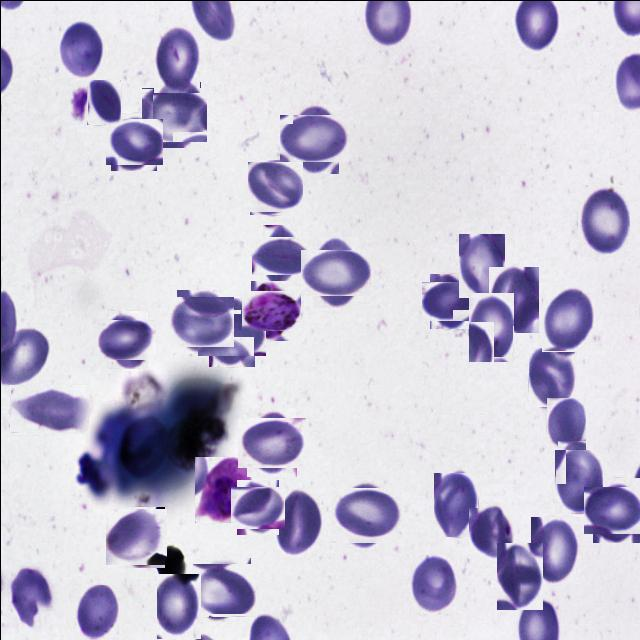difficult: (245, 285, 295, 335)
red blood cell: (9, 384, 88, 433), (335, 484, 397, 546), (143, 84, 203, 144), (577, 184, 629, 253), (284, 108, 344, 167), (541, 286, 595, 351), (106, 507, 165, 566), (242, 412, 300, 472), (306, 242, 364, 300), (202, 302, 260, 360), (172, 292, 230, 350), (530, 516, 580, 583), (274, 488, 322, 557), (195, 560, 252, 618), (488, 266, 538, 332), (467, 292, 513, 362), (496, 542, 542, 609), (554, 448, 602, 512), (153, 26, 199, 92), (587, 482, 640, 538), (458, 233, 504, 297), (432, 472, 477, 537), (156, 573, 200, 638), (408, 554, 456, 613), (248, 160, 301, 213), (528, 347, 574, 406), (107, 115, 159, 167), (9, 566, 53, 627), (58, 20, 104, 77), (102, 314, 152, 364), (256, 230, 306, 280), (74, 584, 118, 638), (468, 507, 514, 558), (233, 482, 281, 530), (426, 276, 472, 324), (545, 397, 585, 450), (86, 79, 120, 124)
trophozoite: (194, 456, 251, 522)
